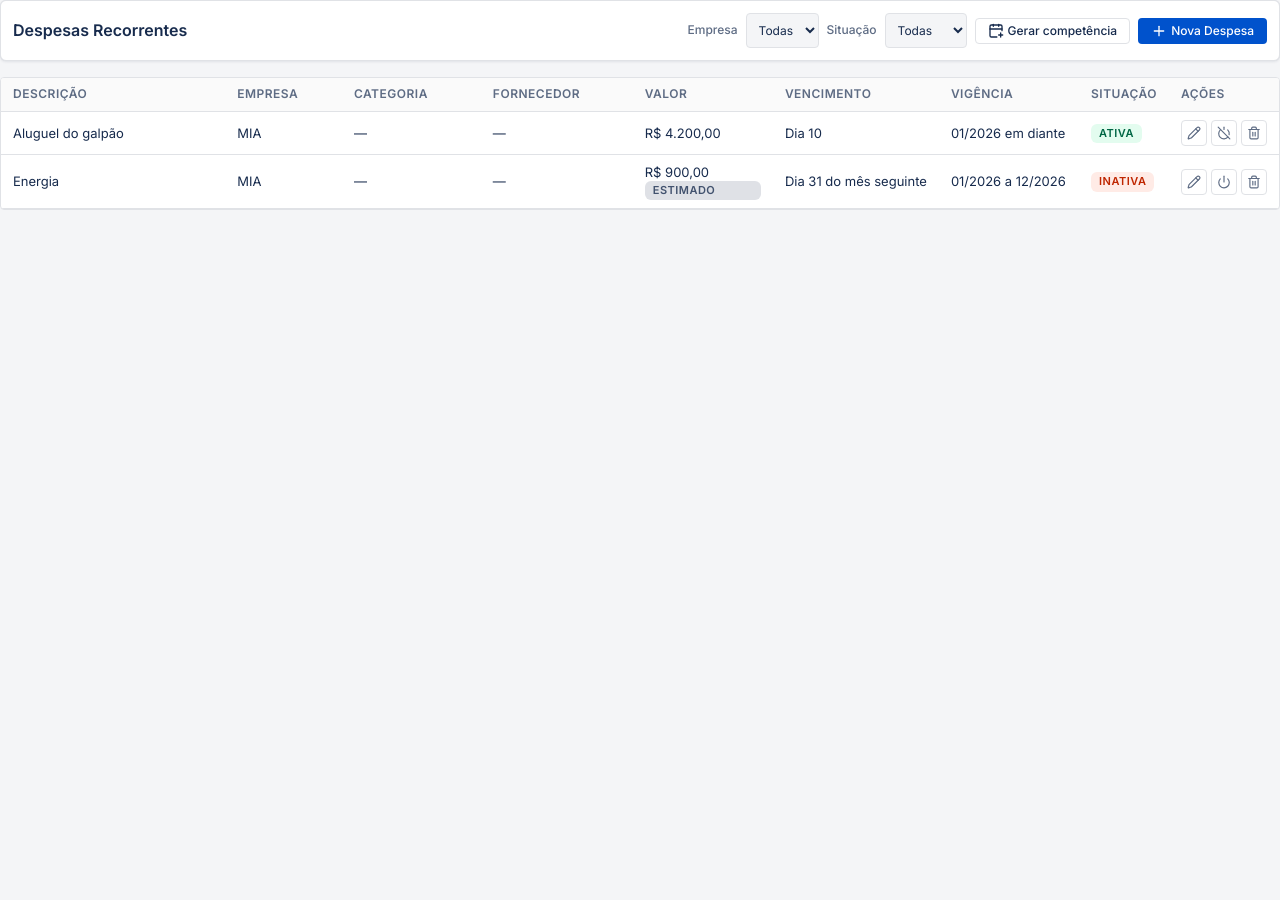
Test case: DespesasRecorrentes › o administrador exclui e vê o aviso de quem já gerou solicitações
This screenshot has width=1280, height=900.
Expected: the text "Aluguel do galpão" is shown, [1,111,225,154]
Click the button named "Excluir despesa recorrente" in the row of "Aluguel do galpão". click: (1254,133)
box: [1241,120,1267,146]
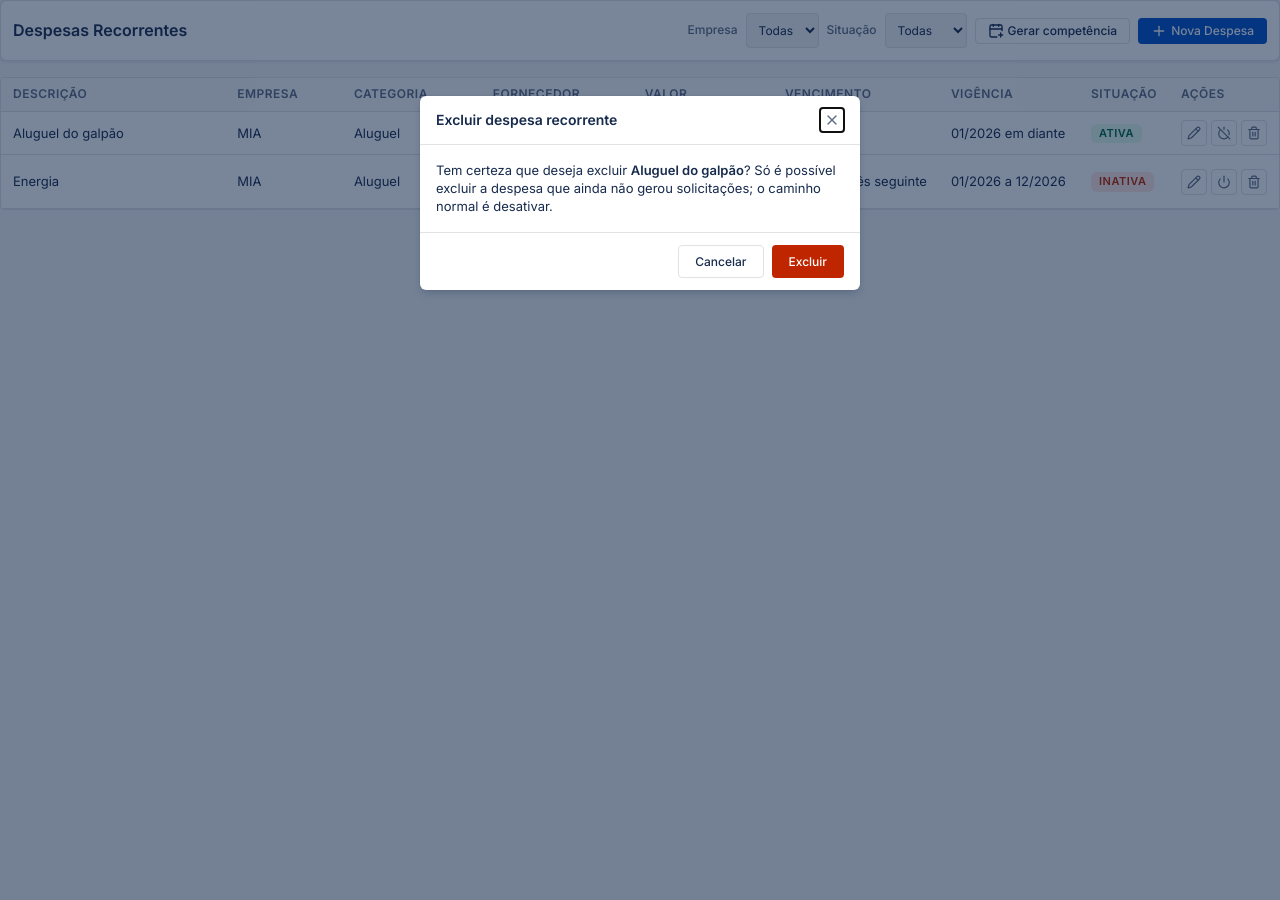
Click the button "Excluir". click: (808,261)
box: [772,245,844,278]
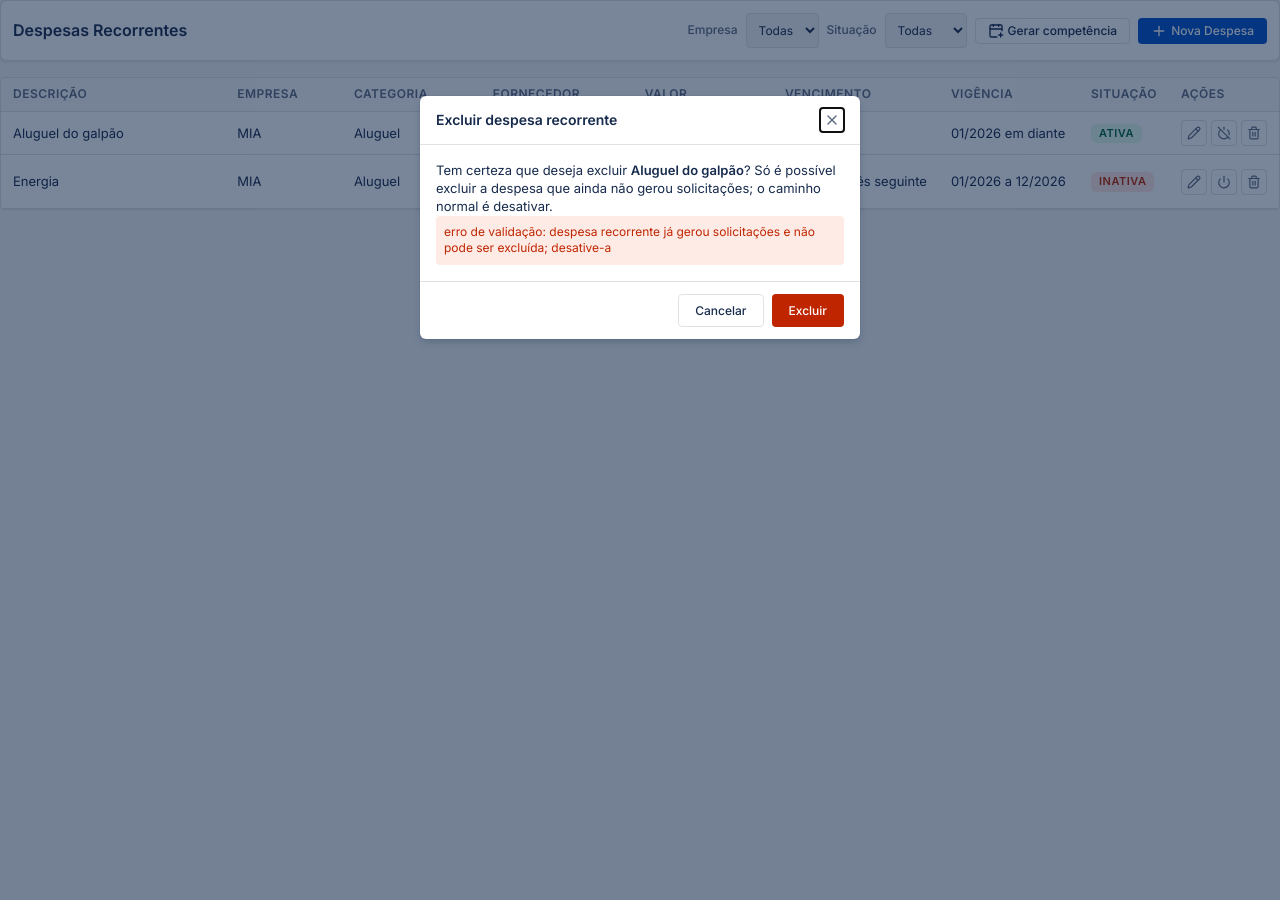
Expected: the text "já gerou solicitações" is shown, [444,224,815,255]
